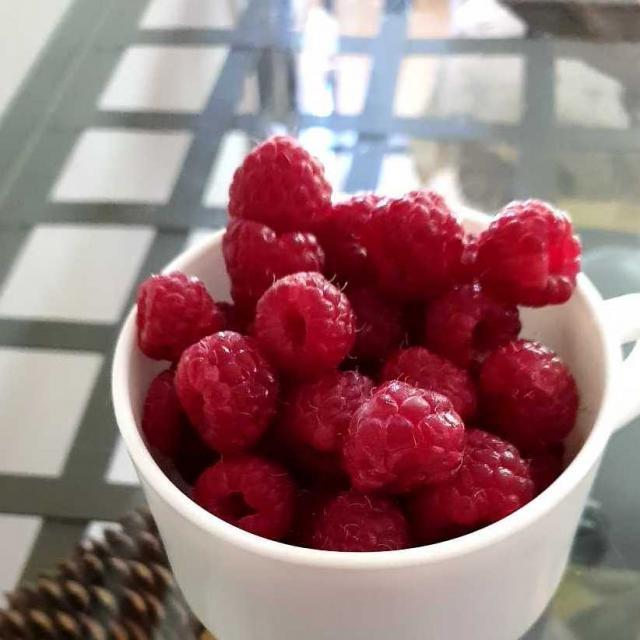raspberries: (143, 150, 577, 547)
